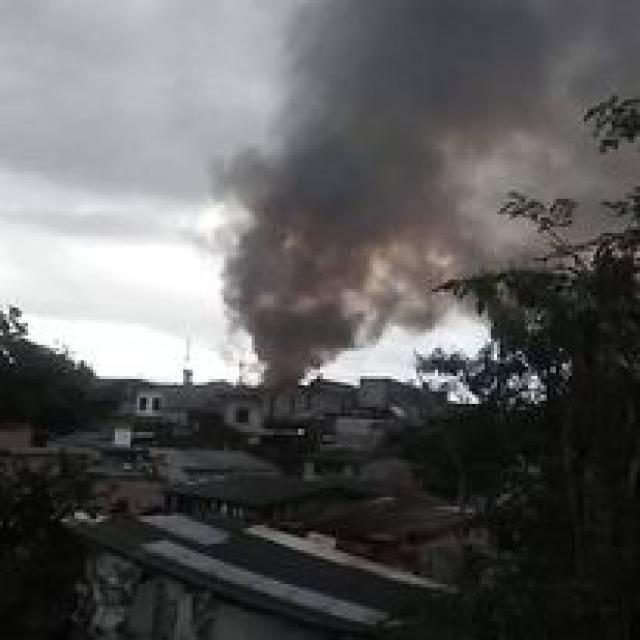Smoke: (285, 3, 640, 271), (224, 161, 366, 379), (352, 228, 439, 330)
